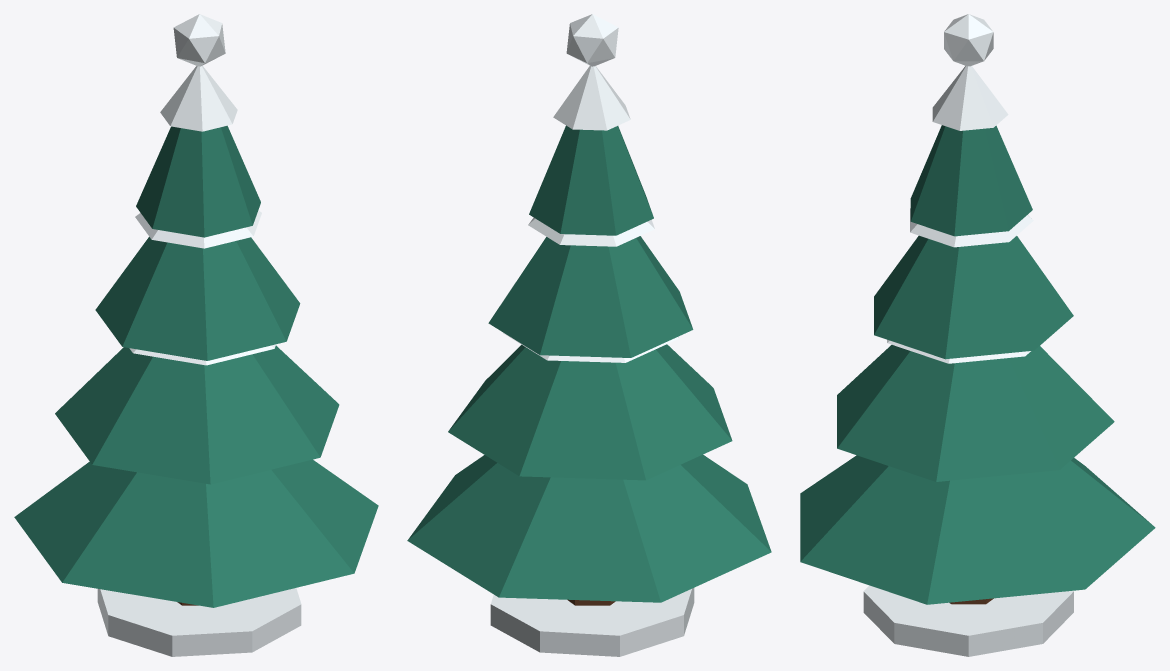
Rendered from snow_pine.fbx.
3 renders of one model, left to right at view 1: azimuth 30°, elevation 25°; view 2: azimuth 150°, elevation 25°; view 3: azimuth 270°, elevation 25°, orthographic.
Parts seen in each view (by area): view 1: Snow_pine; view 2: Snow_pine; view 3: Snow_pine.
Part boxes in pixels (x1,y1,x2,y2): Snow_pine: [14, 14, 378, 656]; Snow_pine: [407, 14, 771, 656]; Snow_pine: [800, 14, 1155, 656].
Size of the model in its own units: 3.12 by 5.65 by 3.04.
